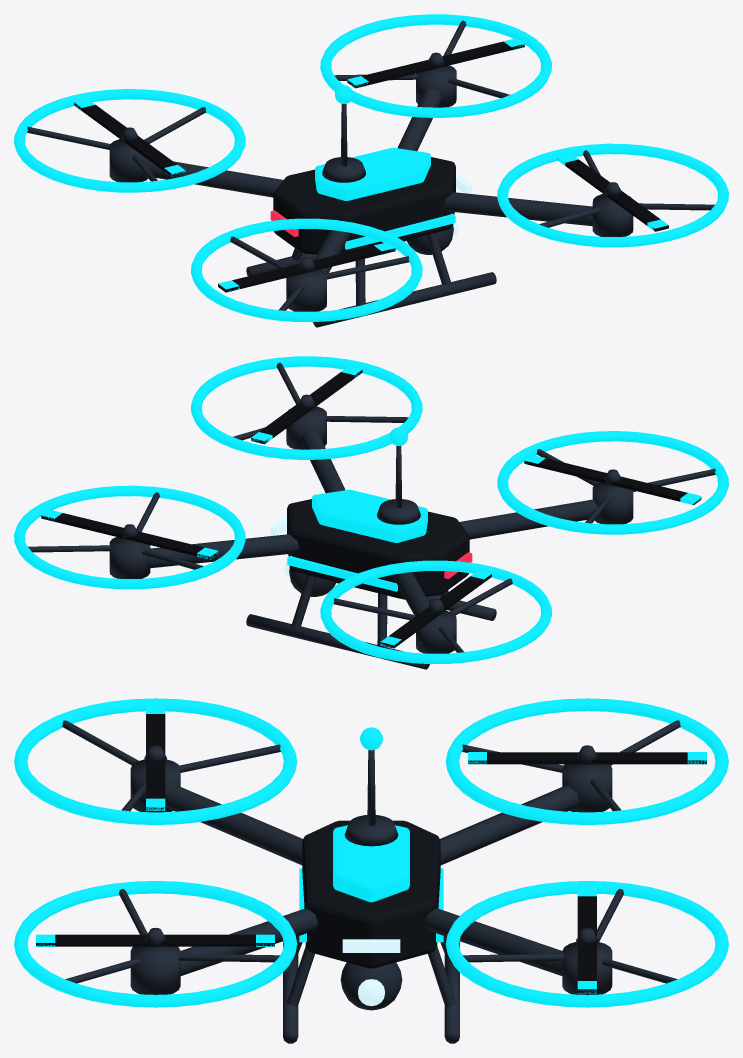
File: flexipath_drone.glb
3 renders of one model, top to bottom at view 1: azimuth 30°, elevation 25°; view 2: azimuth 150°, elevation 25°; view 3: azimuth 270°, elevation 25°, orthographic. The views are drawn at different scales.
Visible parts, largest first — view 1: PropGuards, Arms, Hull, Canopy, Skids, Blades_RR, Blades_FL, Blades_RL, Blades_FR, Antenna, LightStrips, Gimbal; view 2: PropGuards, Arms, Hull, Canopy, Skids, Blades_FL, Blades_RR, Blades_RL, Blades_FR, Antenna, LightStrips, Gimbal; view 3: PropGuards, Arms, Hull, Canopy, Skids, Blades_RL, Blades_FR, Antenna, Gimbal, Blades_FL, Blades_RR, Headlight (+1 smaller).
Part boxes in pixels (x1,y1,x2,y2): PropGuards: (14,14,728,322); Arms: (27,20,714,311); Hull: (273,157,455,254); Canopy: (315,147,430,200); Skids: (246,233,496,327); Blades_RR: (218,245,395,292); Blades_FL: (347,41,524,88); Blades_RL: (74,102,185,176); Blades_FR: (557,159,668,231); Antenna: (322,104,365,182); LightStrips: (345,213,455,249); Gimbal: (406,224,453,254); PropGuards: (14,356,728,664); Arms: (28,362,715,653); Hull: (287,499,469,598); Canopy: (312,489,427,542); Skids: (246,575,496,669); Blades_FL: (41,513,218,559); Blades_RR: (524,458,701,504); Blades_RL: (380,574,491,648); Blades_FR: (251,369,362,444); Antenna: (377,446,420,524); LightStrips: (287,555,397,591); Gimbal: (289,566,336,596); PropGuards: (14,698,728,1007); Arms: (62,720,680,994); Hull: (302,820,440,968); Canopy: (333,825,409,902); Skids: (283,936,459,1043); Blades_RL: (468,752,706,764); Blades_FR: (36,934,274,946); Antenna: (344,750,398,846); Gimbal: (340,962,402,1010); Blades_FL: (577,896,596,992); Blades_RR: (146,714,165,810); Headlight: (342,939,400,952).
Bounding box in the file's own units: 3.71 × 1.41 × 3.71.
